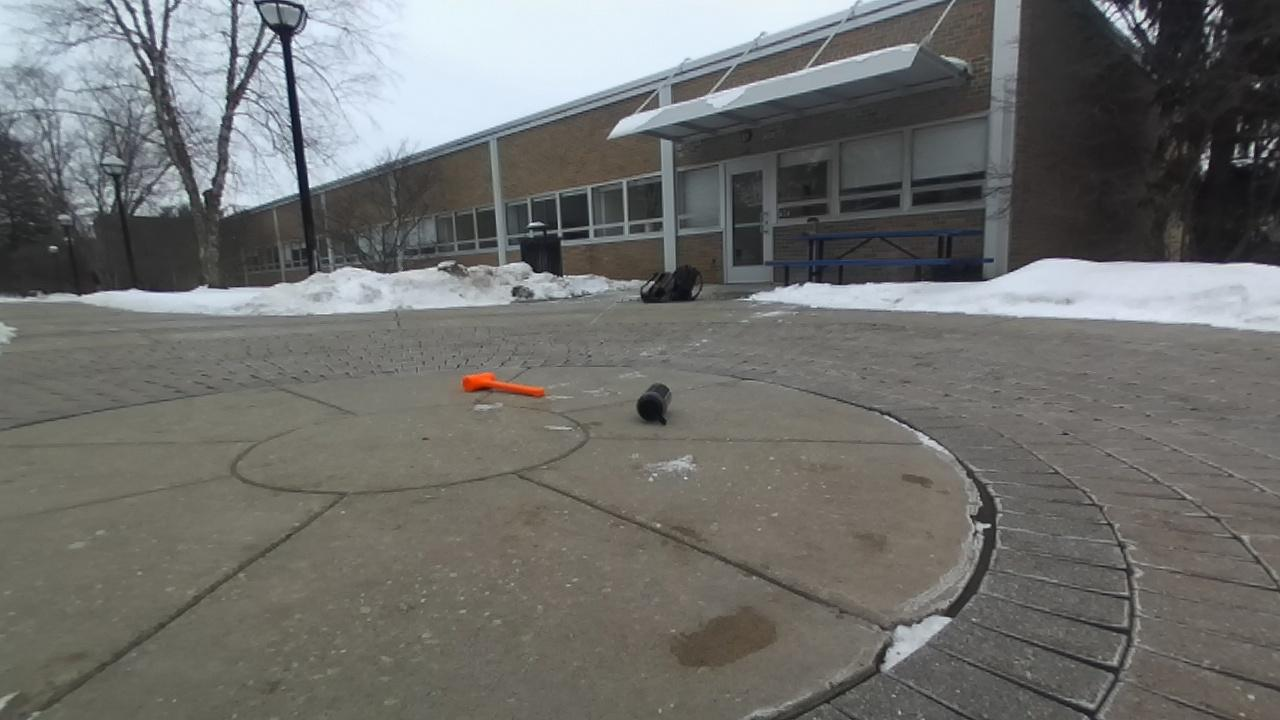bottle: (637, 383, 670, 424)
mallet: (462, 372, 544, 396)
